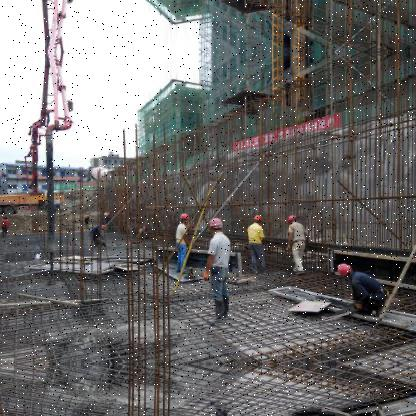helmet: (211, 215, 225, 233), (338, 260, 353, 276), (288, 213, 299, 224), (181, 210, 191, 222), (254, 214, 263, 223)
